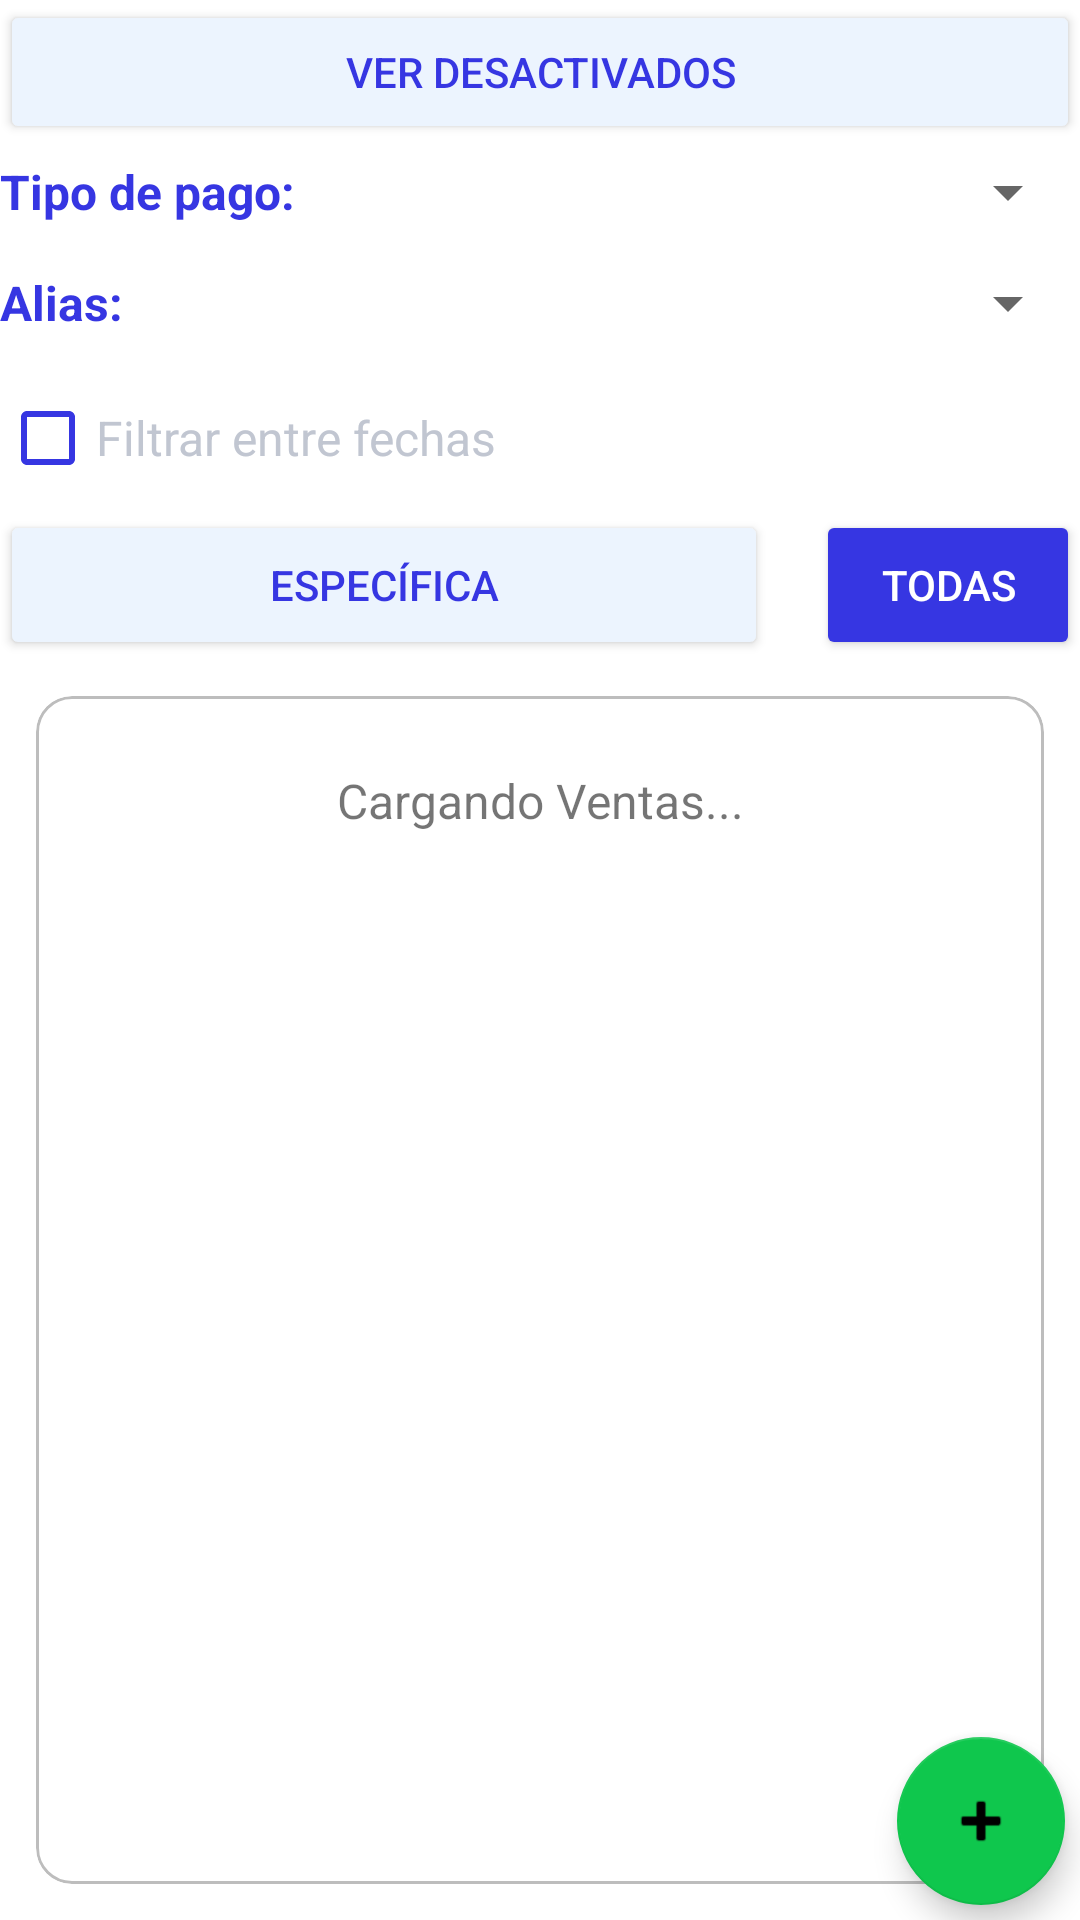

Named icons in this screenshot (1080×1920) and their centers, (x,y):
Agregar producto: (981,1821)
